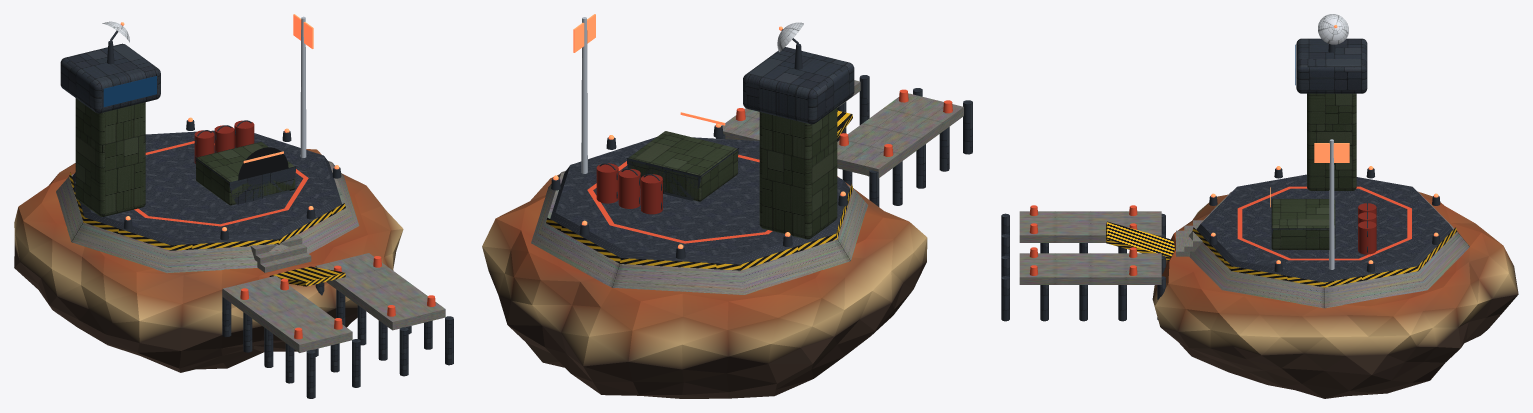
The model's file is torpedo-L25.glb.
The picture shows the model from 3 angles, left to right: view 1: azimuth 30°, elevation 25°; view 2: azimuth 150°, elevation 25°; view 3: azimuth 270°, elevation 25°; orthographic projection. The views are drawn at different scales.
Parts seen in each view (by area): view 1: object 1, object 4, object 56, object 2, object 25, object 40, object 57, object 72, object 3, object 73, object 58, object 74 (+13 smaller); view 2: object 1, object 4, object 2, object 56, object 57, object 25, object 72, object 3, object 73, object 40, object 61, object 5 (+9 smaller); view 3: object 1, object 4, object 2, object 40, object 56, object 57, object 25, object 72, object 3, object 55, object 5, anim:rot (+3 smaller).
Boxes of the visible parts, x1,y1,x2,y2 form: object 1: (14, 149, 403, 372); object 4: (72, 130, 341, 245); object 56: (75, 98, 145, 216); object 2: (56, 161, 359, 273); object 25: (222, 275, 352, 352); object 40: (315, 253, 445, 330); object 57: (60, 43, 160, 113); object 72: (196, 142, 295, 205); object 3: (69, 172, 345, 250); object 73: (195, 157, 296, 204); object 58: (103, 76, 156, 106); object 74: (238, 147, 288, 180); object 1: (482, 174, 927, 398); object 4: (550, 137, 849, 264); object 2: (531, 170, 868, 294); object 56: (759, 108, 837, 239); object 57: (743, 47, 854, 124); object 25: (837, 93, 963, 177); object 72: (627, 131, 737, 201); object 3: (546, 183, 853, 270); object 73: (626, 148, 738, 200); object 40: (722, 80, 860, 140); object 61: (581, 17, 587, 173); object 5: (587, 154, 772, 243); object 1: (1152, 191, 1518, 398); object 4: (1196, 174, 1452, 282); object 2: (1189, 191, 1469, 308); object 40: (1019, 253, 1161, 284); object 56: (1307, 93, 1356, 190); object 57: (1296, 38, 1367, 93); object 25: (1019, 211, 1161, 242); object 72: (1271, 199, 1335, 249); object 3: (1192, 227, 1457, 287); object 55: (1106, 221, 1174, 260); object 5: (1237, 186, 1411, 260); anim:rot: (1318, 14, 1348, 44).
Size of the model in its own units: 4.91 by 4.77 by 7.29.
Materials: 18 (8 with a texture image).
